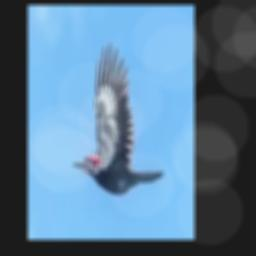Woodpecker: (72, 41, 165, 195)
